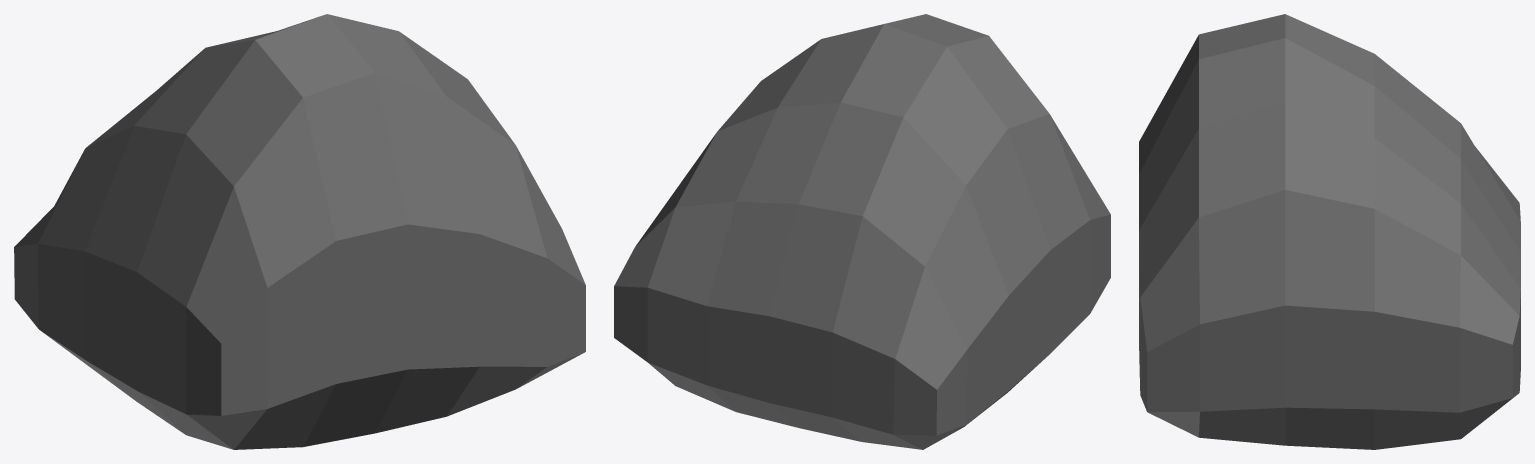
Rendered from Pierre.fbx.
3 views of the same model, side by side, from view 1: azimuth 30°, elevation 25°; view 2: azimuth 150°, elevation 25°; view 3: azimuth 270°, elevation 25° (orthographic). The views are drawn at different scales.
Visible parts, largest first — view 1: Cube; view 2: Cube; view 3: Cube.
Part boxes in pixels (bbox=[...]): Cube: bbox=[14, 14, 585, 449]; Cube: bbox=[614, 14, 1110, 449]; Cube: bbox=[1139, 14, 1520, 449].
Bounding box in the file's own units: 177 × 177 × 170.
